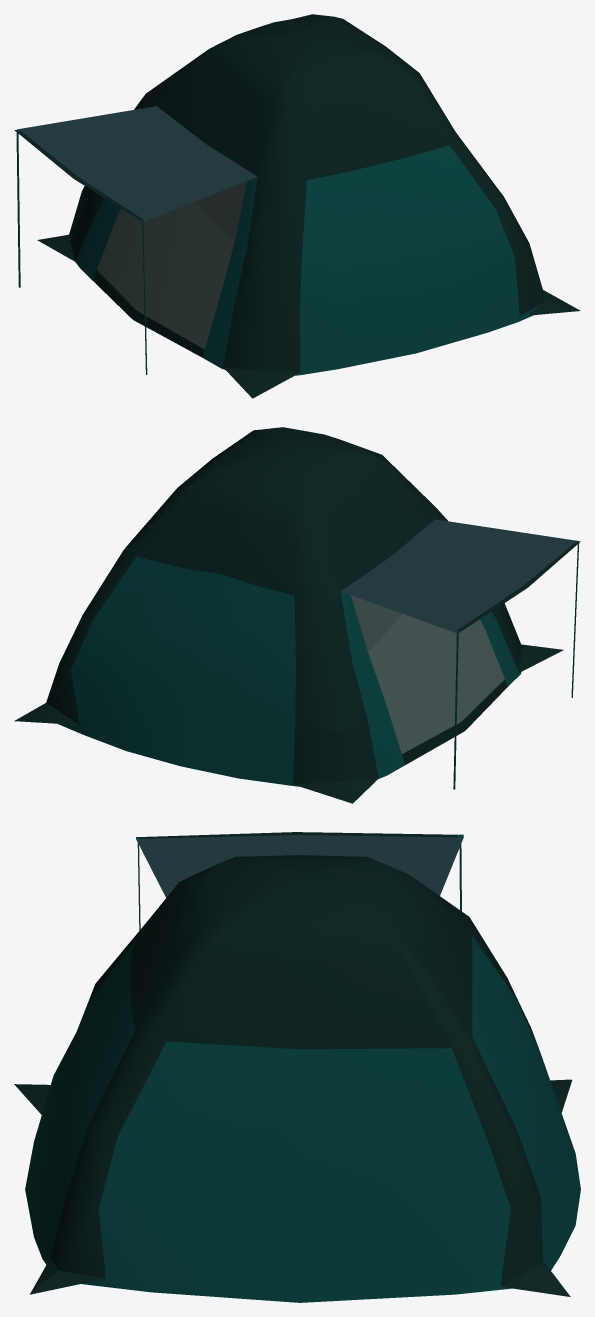
The model's file is tent.fbx.
3 views of the same model, one above another, from view 1: azimuth 30°, elevation 25°; view 2: azimuth 150°, elevation 25°; view 3: azimuth 270°, elevation 25° (orthographic). The views are drawn at different scales.
Visible parts, largest first — view 1: pCone1; view 2: pCone1; view 3: pCone1.
Part boxes in pixels (x1,y1,x2,y2): pCone1: (14,14,580,398); pCone1: (14,427,580,803); pCone1: (14,832,580,1302).
Bounding box in the file's own units: 9.1 × 5.04 × 8.2.
